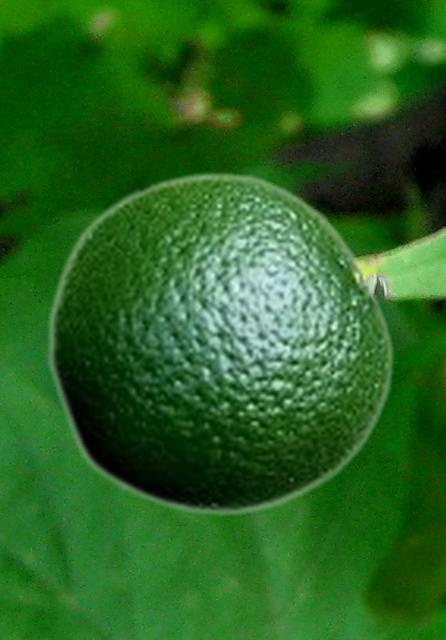calamansi: (45, 170, 395, 517)
